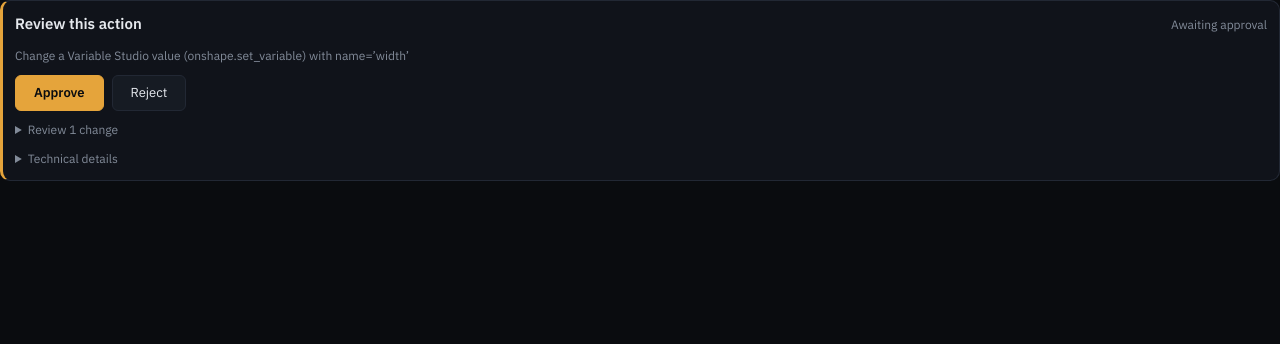
Test: review layout › collapses a single multiline patch without removing its complete contents
The width and height of the screenshot is (1280, 344).
Expected: the text "@@ -1" is not shown
Click the heading "Review 1 change".
click(67, 130)  # box x1=15 y1=121 x2=118 y2=139
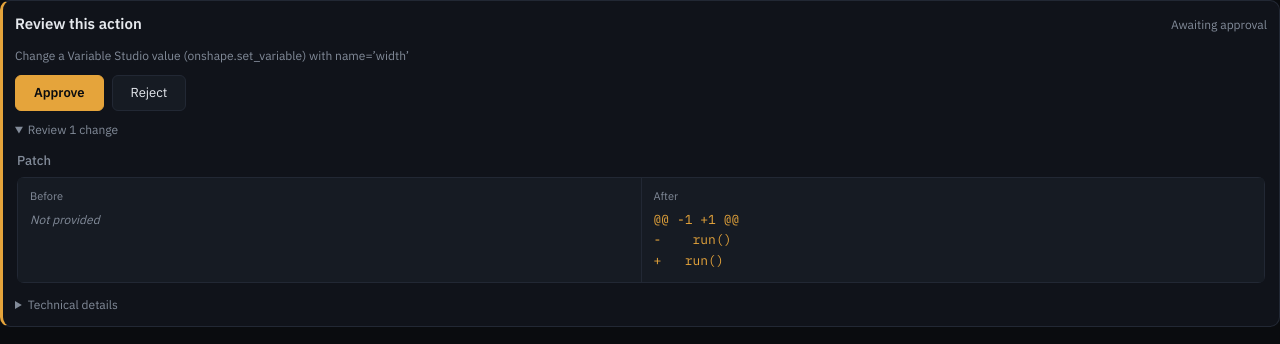
Expected: the text "@@ -1 +1 @@ - run() + run()" is shown, x1=654 y1=211 x2=739 y2=269
